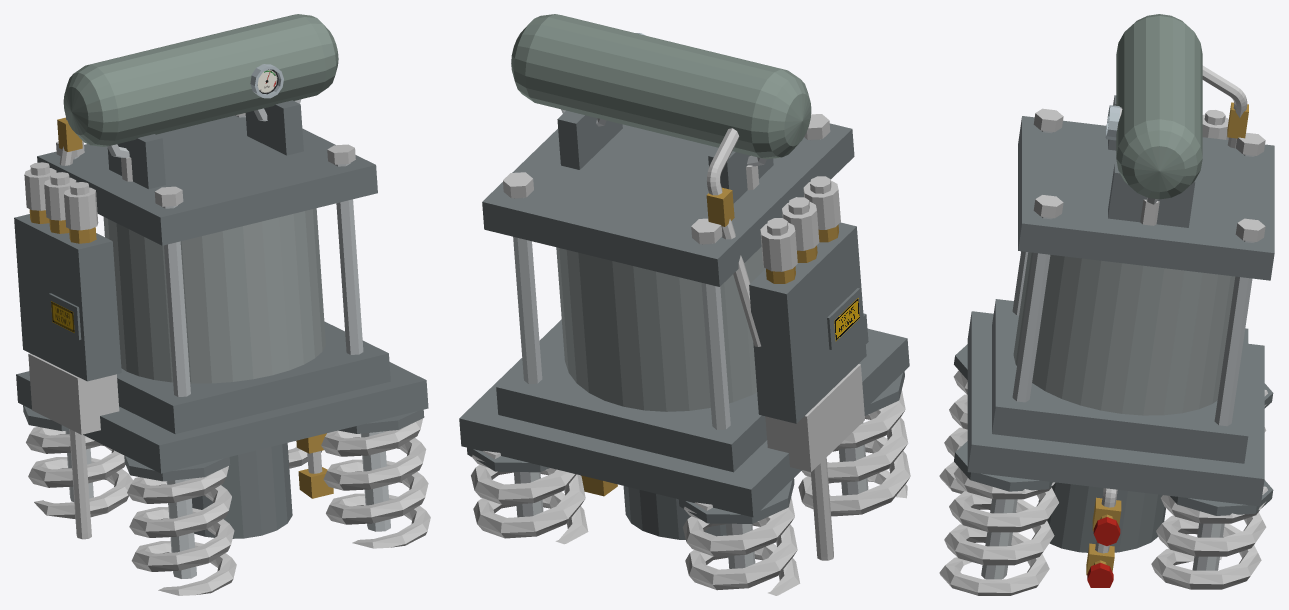
The model's file is cell_2.obj.
The picture shows the model from 3 angles, left to right: view 1: azimuth 30°, elevation 25°; view 2: azimuth 150°, elevation 25°; view 3: azimuth 270°, elevation 25°; orthographic projection. The views are drawn at different scales.
Size of the model in its own units: 0.6925 by 0.9949 by 0.6582.
